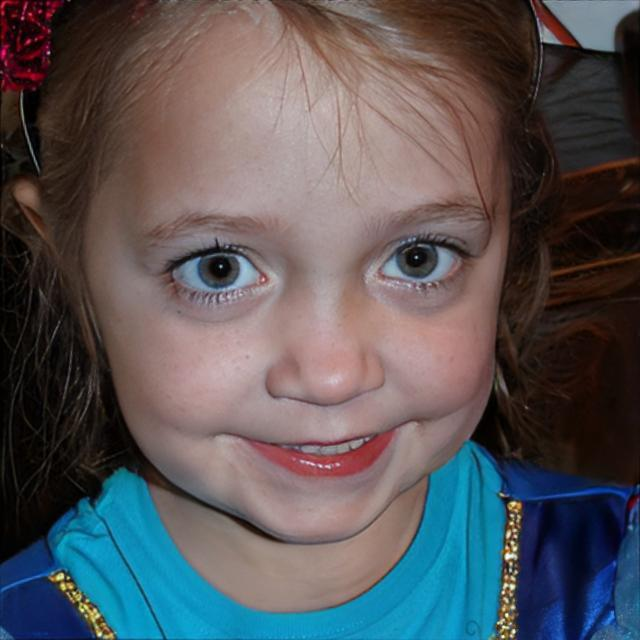happy: (101, 43, 504, 547)
